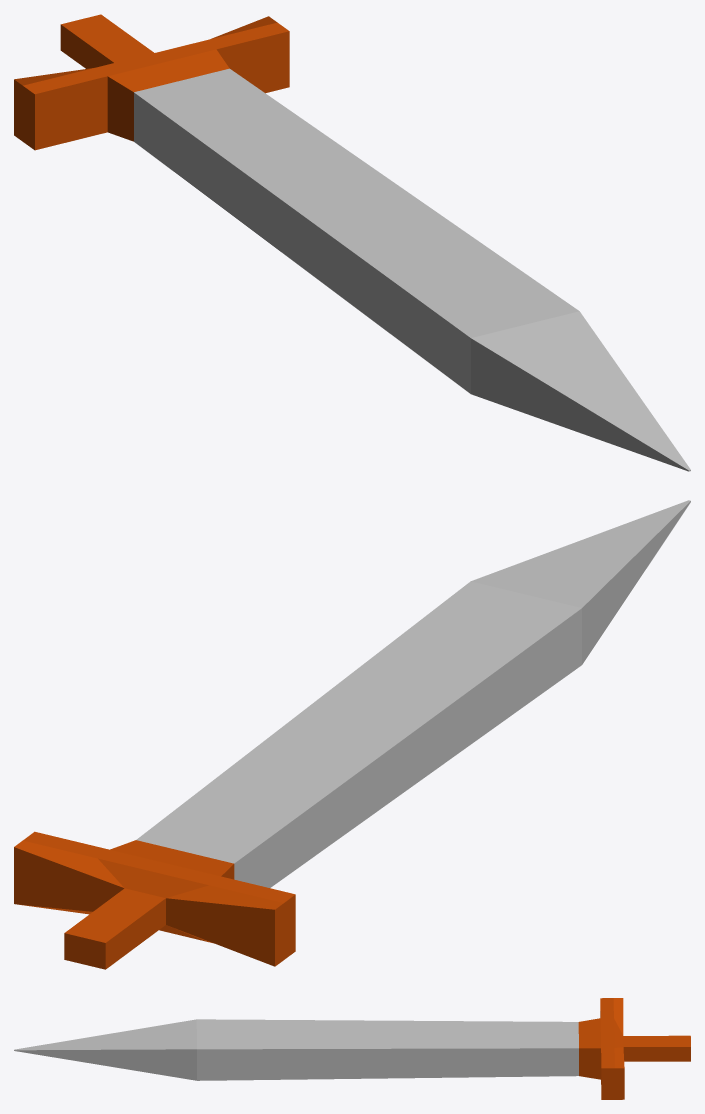
The model's file is sword.fbx.
The picture shows the model from 3 angles, top to bottom: view 1: azimuth 30°, elevation 25°; view 2: azimuth 150°, elevation 25°; view 3: azimuth 270°, elevation 25°; orthographic projection. The views are drawn at different scales.
Visible parts, largest first — view 1: Circle.001; view 2: Circle.001; view 3: Circle.001.
Boxes of the visible parts, left/top/right/bottom form: Circle.001: left=14, top=14, right=690, bottom=471; Circle.001: left=14, top=500, right=690, bottom=969; Circle.001: left=14, top=998, right=690, bottom=1099.
Size of the model in its own units: 406 by 84.98 by 1653.
